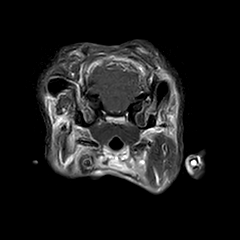Brain: (66, 36, 165, 134)
